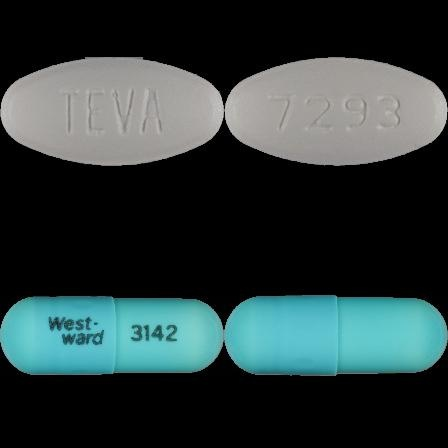21695-041: (0, 0, 224, 224)
